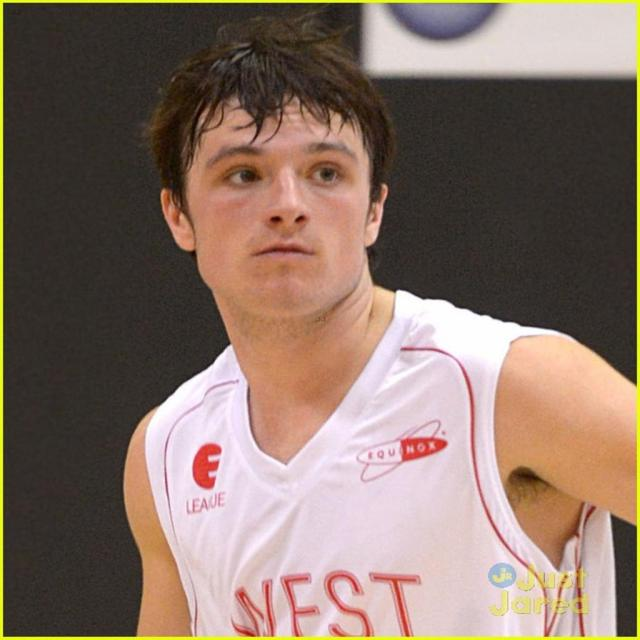Face: (147, 83, 395, 350)
